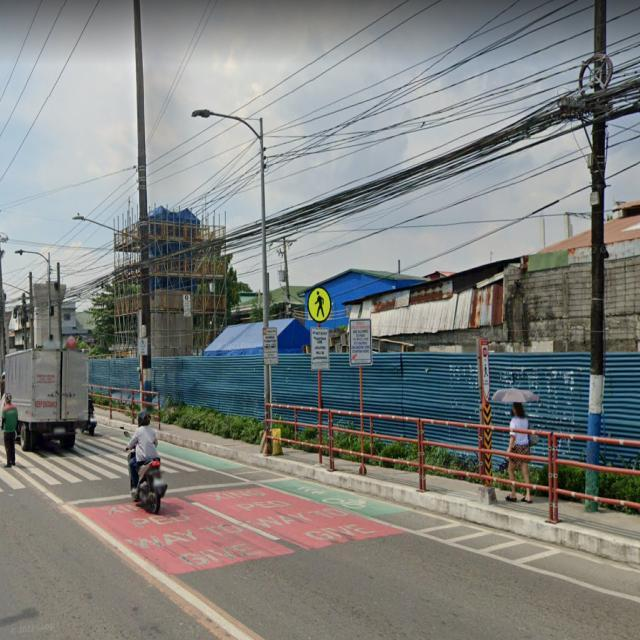pedestrian crossing: (307, 285, 333, 324)
